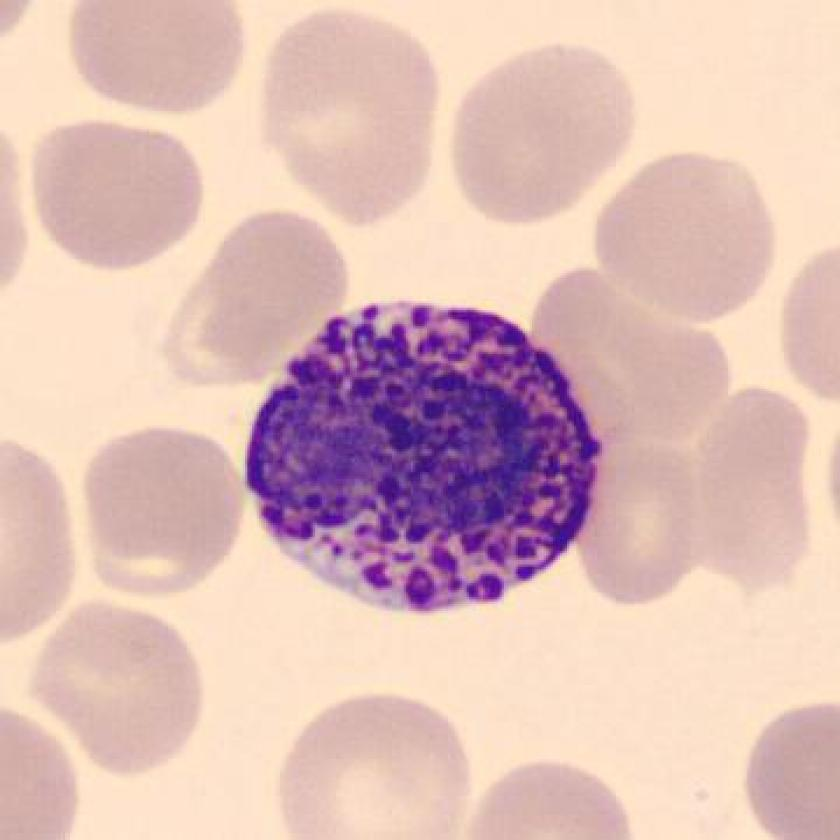basophil: (242, 295, 606, 621)
